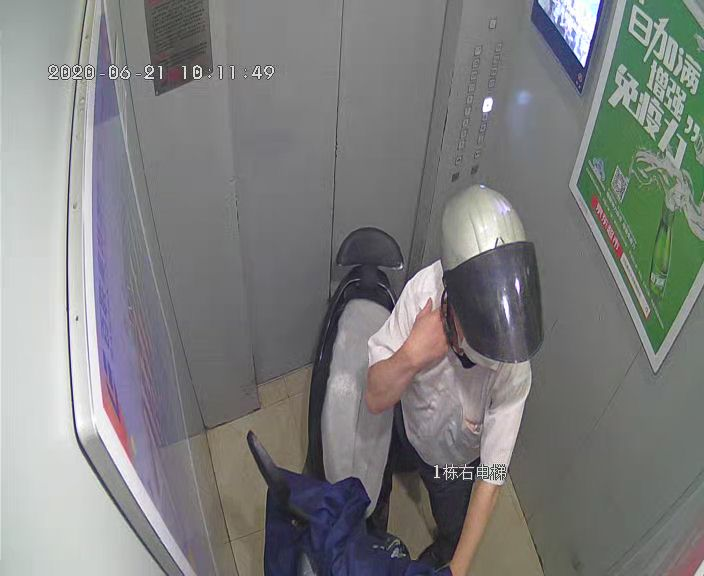Electric-bicycle: (247, 229, 405, 573)
